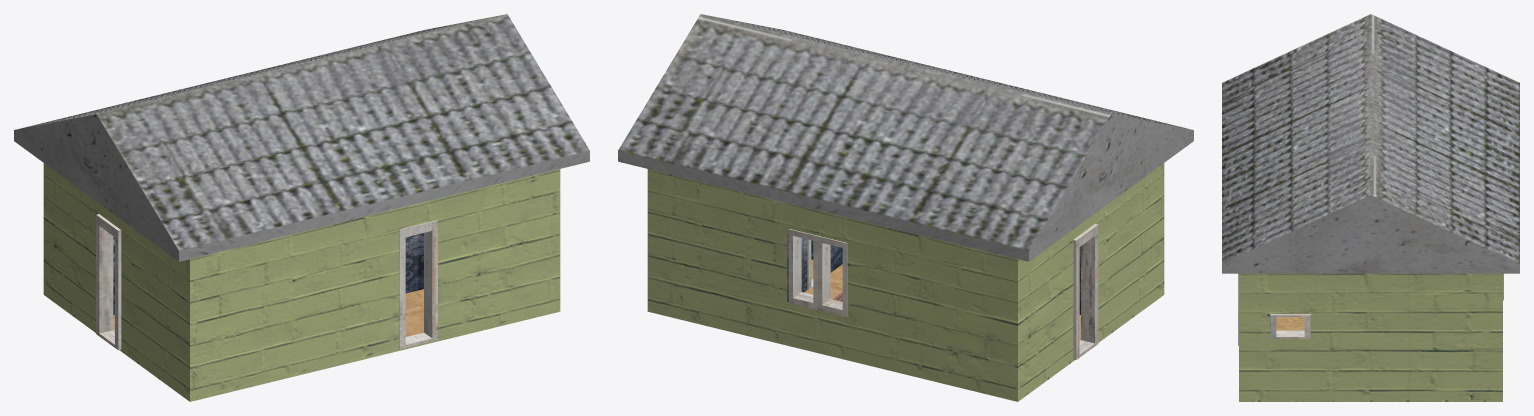
The model's file is House ver4.FBX.
3 renders of one model, left to right at view 1: azimuth 30°, elevation 25°; view 2: azimuth 150°, elevation 25°; view 3: azimuth 270°, elevation 25°, orthographic. The views are drawn at different scales.
Visible parts, largest first — view 1: House ver4; view 2: House ver4; view 3: House ver4.
Part boxes in pixels (x1=…): House ver4: x1=14, y1=14, x2=589, y2=401; House ver4: x1=618, y1=14, x2=1193, y2=401; House ver4: x1=1222, y1=14, x2=1519, y2=401.
Bounding box in the file's own units: 586 × 326 × 408.
